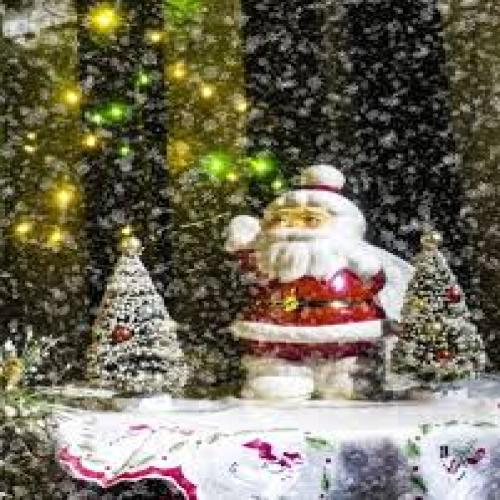Santa: (223, 164, 387, 399)
